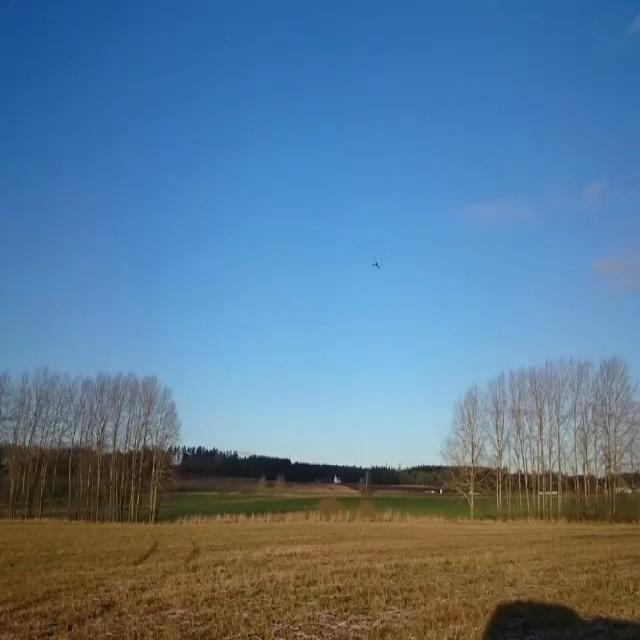drone: (371, 254, 382, 269)
